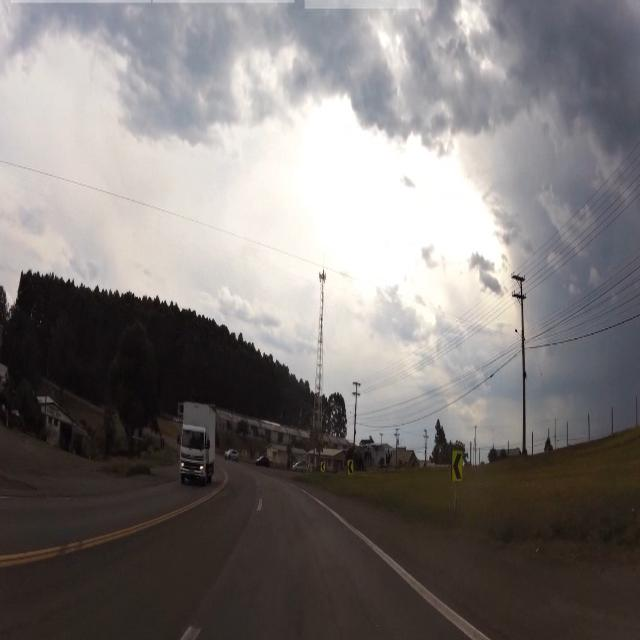Del: (451, 446, 465, 482)
